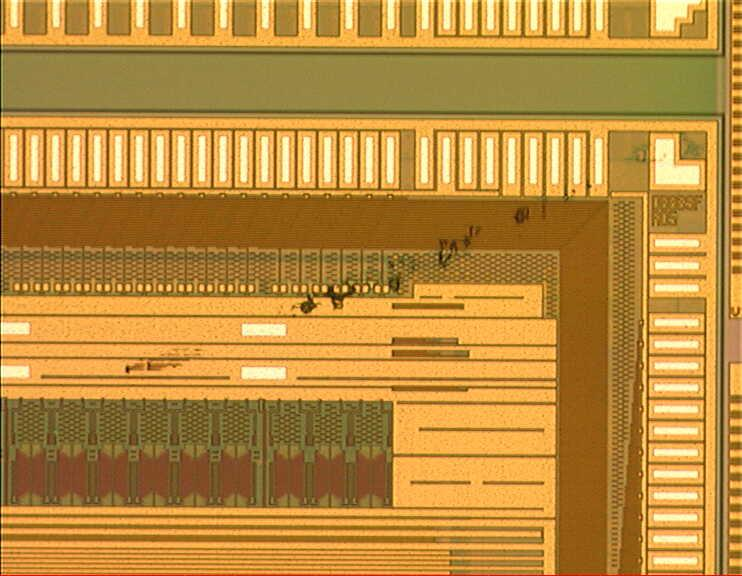SCRATCH: (85, 114, 718, 401)
